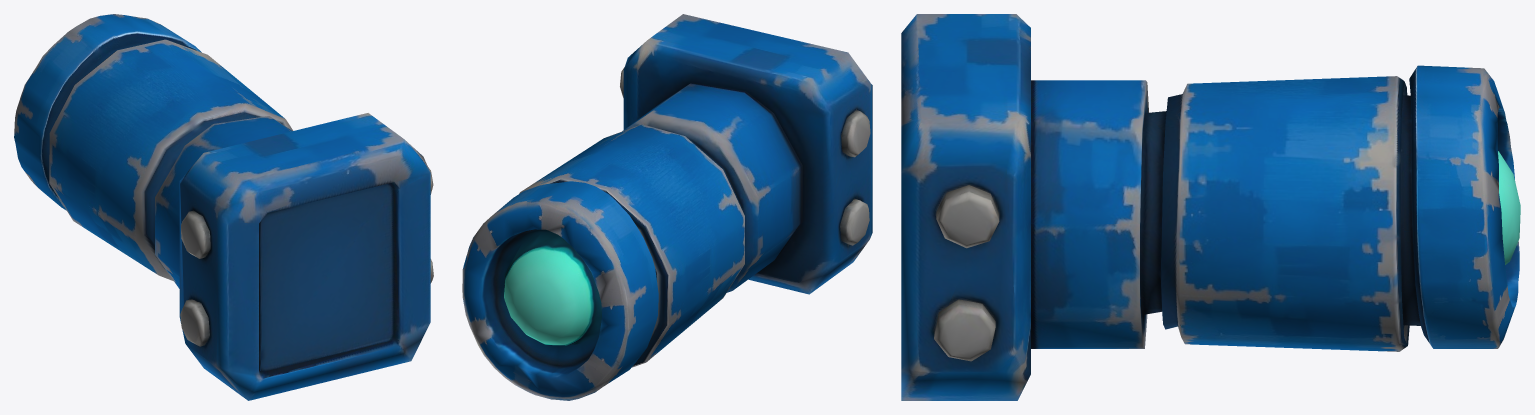
3 views of the same model, side by side, from view 1: azimuth 30°, elevation 25°; view 2: azimuth 150°, elevation 25°; view 3: azimuth 270°, elevation 25° (orthographic). The views are drawn at different scales.
Parts seen in each view (by area): view 1: tripo_node_921d89b5-f7af-4161-9a50-6d39bbef6310; view 2: tripo_node_921d89b5-f7af-4161-9a50-6d39bbef6310; view 3: tripo_node_921d89b5-f7af-4161-9a50-6d39bbef6310.
Boxes of the visible parts, box(x1,y1,x2,y2) form: tripo_node_921d89b5-f7af-4161-9a50-6d39bbef6310: box(14, 14, 433, 400); tripo_node_921d89b5-f7af-4161-9a50-6d39bbef6310: box(462, 14, 872, 400); tripo_node_921d89b5-f7af-4161-9a50-6d39bbef6310: box(901, 14, 1520, 400).
Size of the model in its own units: 0.5723 by 0.502 by 0.998.
Materials: 1 (1 with a texture image).
